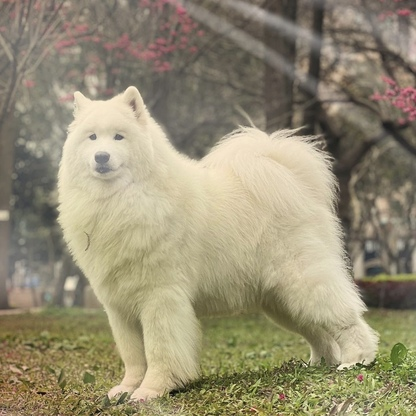samoyed: (50, 81, 384, 406)
